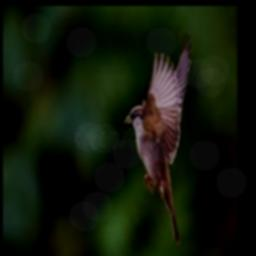Sparrow: (124, 32, 192, 244)
